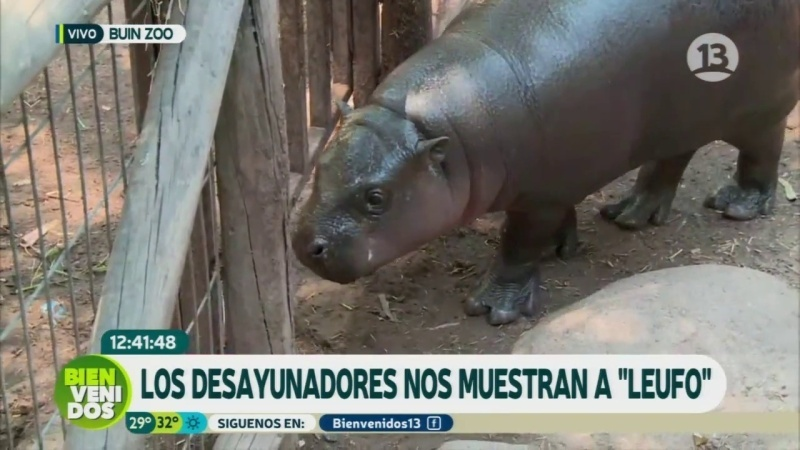hipopotamo: (277, 1, 799, 327)
